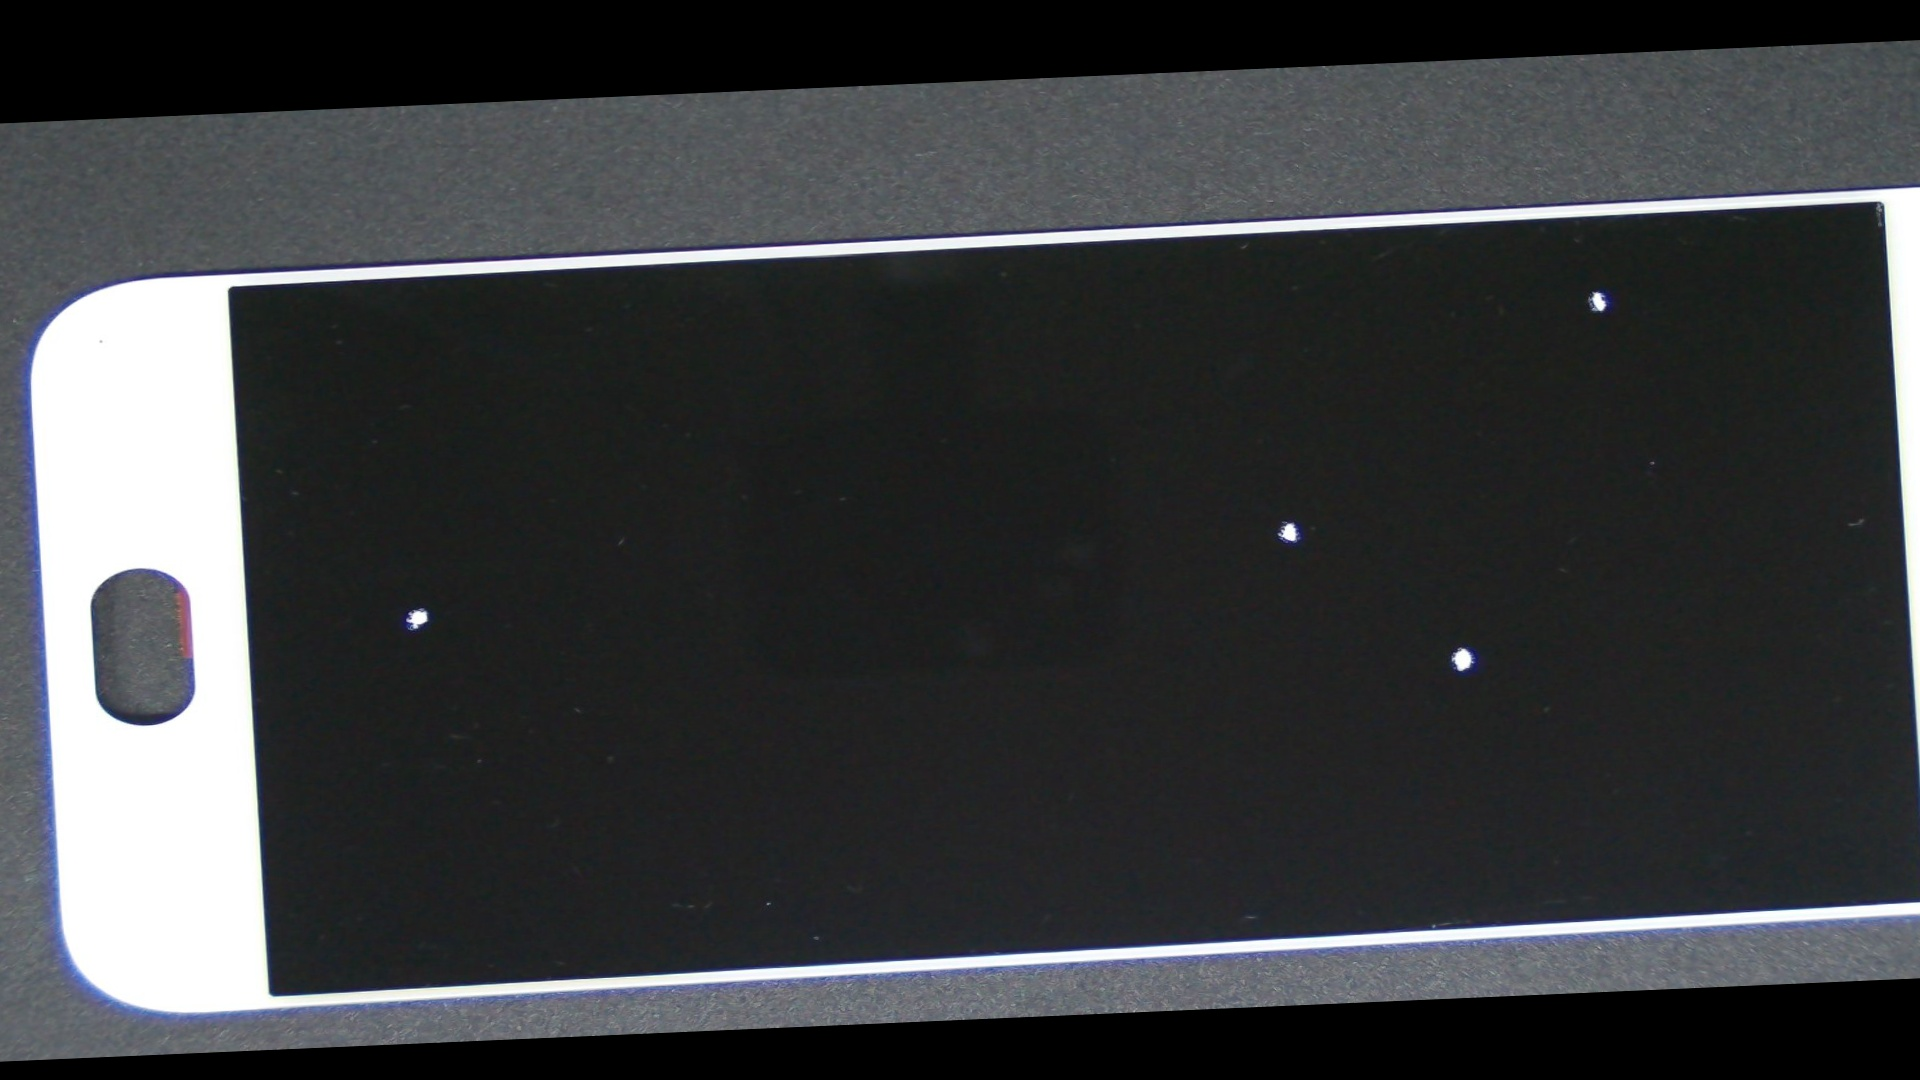oil: (692, 322, 1920, 972), (605, 264, 1920, 774), (758, 148, 1920, 443), (171, 345, 666, 868)
